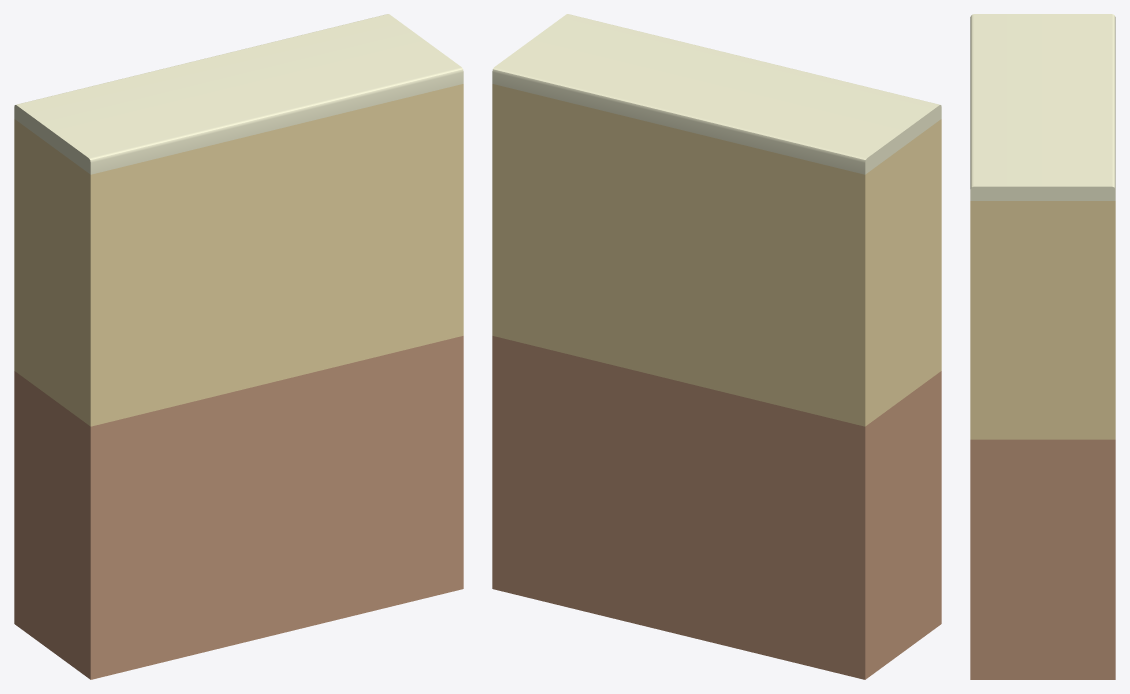
File: Wall_hard.fbx
3 views of the same model, side by side, from view 1: azimuth 30°, elevation 25°; view 2: azimuth 150°, elevation 25°; view 3: azimuth 270°, elevation 25° (orthographic). The views are drawn at different scales.
Parts seen in each view (by area): view 1: wall3to1hard_geo; view 2: wall3to1hard_geo; view 3: wall3to1hard_geo.
Boxes of the visible parts, <box> form: wall3to1hard_geo: <box>14,14,463,679</box>; wall3to1hard_geo: <box>492,14,941,679</box>; wall3to1hard_geo: <box>970,14,1115,679</box>.
Size of the model in its own units: 300 by 400 by 107.
